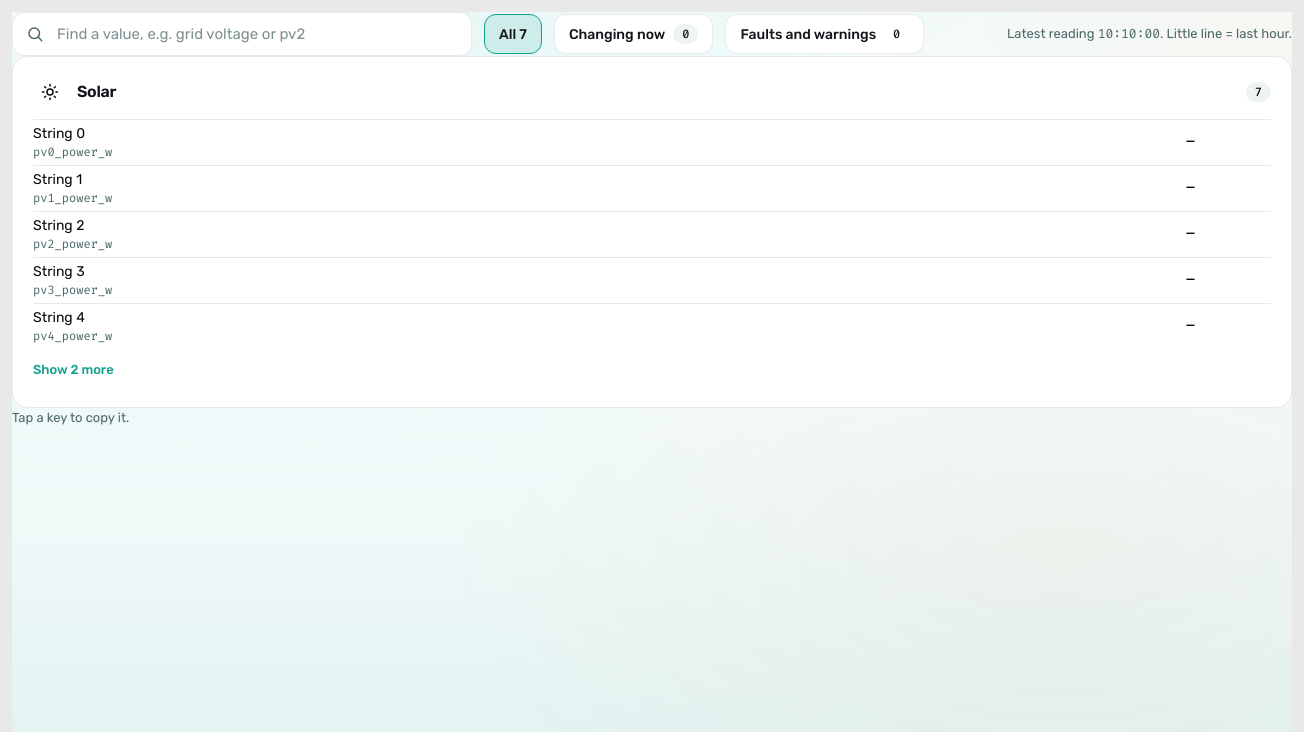
Test case: AllValuesTab › V5 shows 5 rows and the rest on Show more
Check: the number of elements with class "av-row" is 5, box x1=33 y1=119 x2=1271 y2=163; x1=33 y1=165 x2=1271 y2=209; x1=33 y1=211 x2=1271 y2=255; x1=33 y1=257 x2=1271 y2=301; x1=33 y1=303 x2=1271 y2=347
Click the button "Show 2 more" at point(73, 369), box x1=33 y1=349 x2=114 y2=389
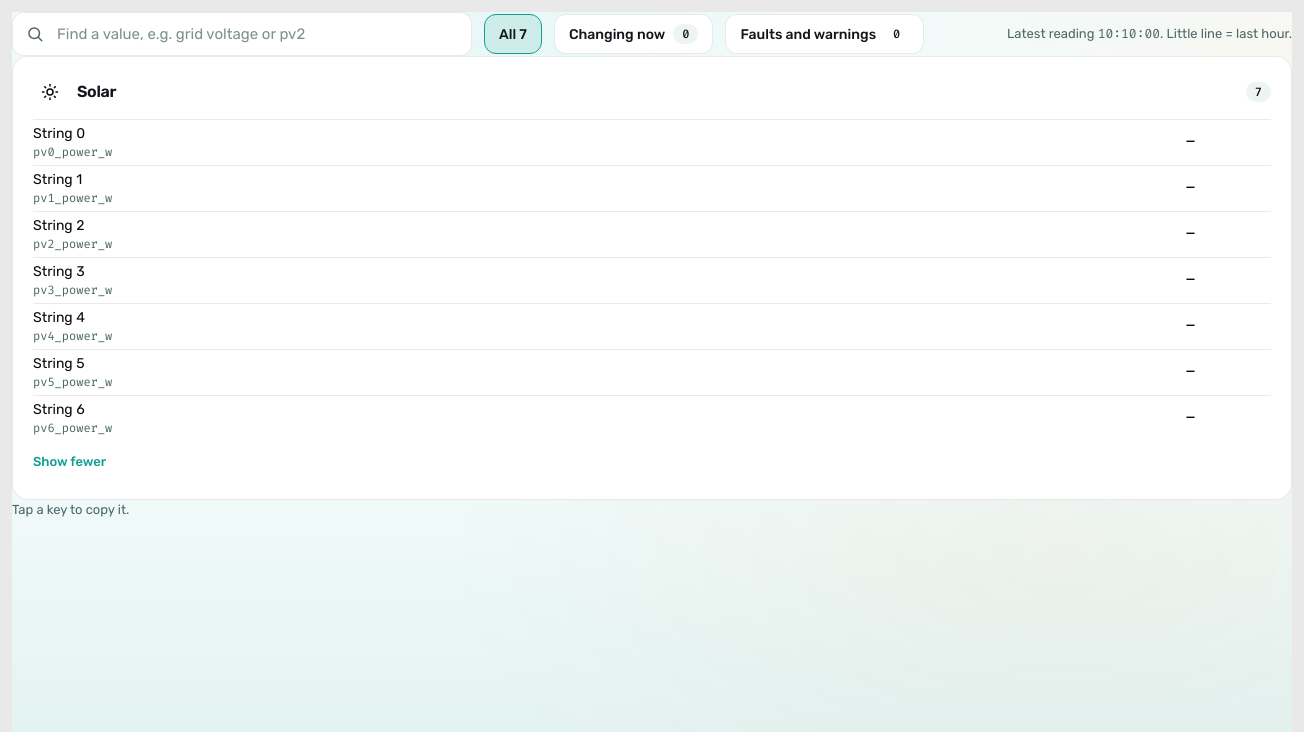
Check: the number of elements with class "av-row" is 7
Check: the button "Show fewer" is shown, box x1=33 y1=441 x2=106 y2=481
